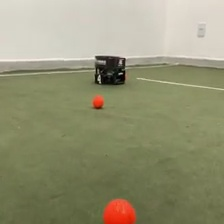ball: (101, 196, 137, 224), (91, 94, 104, 108)
robot: (93, 52, 126, 86)
